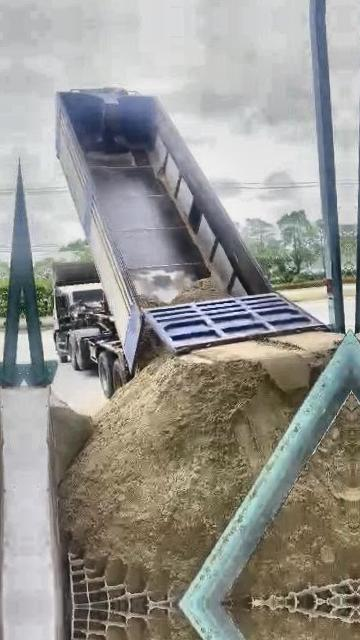sand: (61, 332, 336, 591), (236, 408, 355, 597), (48, 397, 93, 488), (139, 277, 229, 308), (137, 327, 162, 371)
